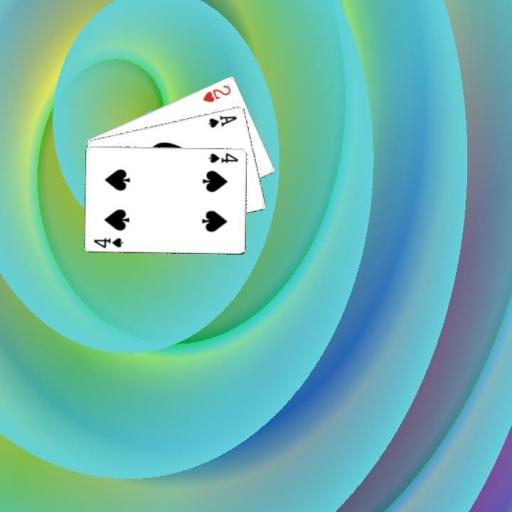2H: (200, 82, 232, 104)
4S: (206, 150, 240, 165), (91, 235, 125, 249)
AS: (206, 112, 238, 129)
